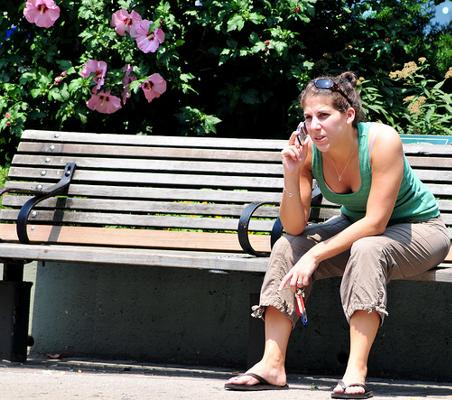person: (227, 75, 451, 400)
